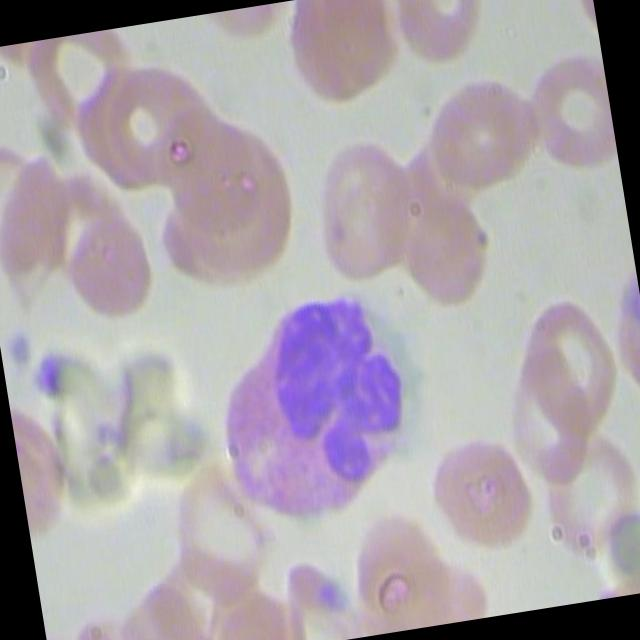RBC: (304, 128, 425, 284), (514, 290, 626, 441), (532, 418, 640, 574), (423, 65, 551, 195), (420, 430, 536, 564), (280, 0, 407, 114), (521, 47, 619, 176), (61, 204, 161, 328), (504, 352, 593, 483), (386, 0, 494, 69)
WBC: (200, 278, 432, 538)
